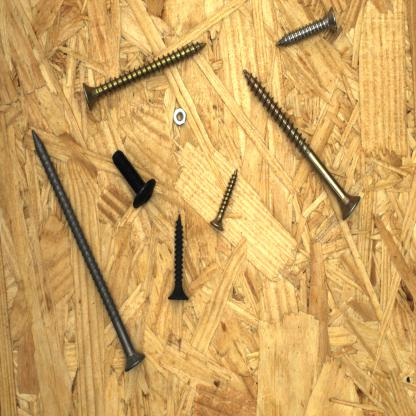screw: (31, 128, 147, 376), (240, 63, 363, 222), (80, 38, 208, 113), (272, 5, 341, 50), (109, 146, 157, 210), (166, 212, 190, 303), (208, 166, 240, 233)
